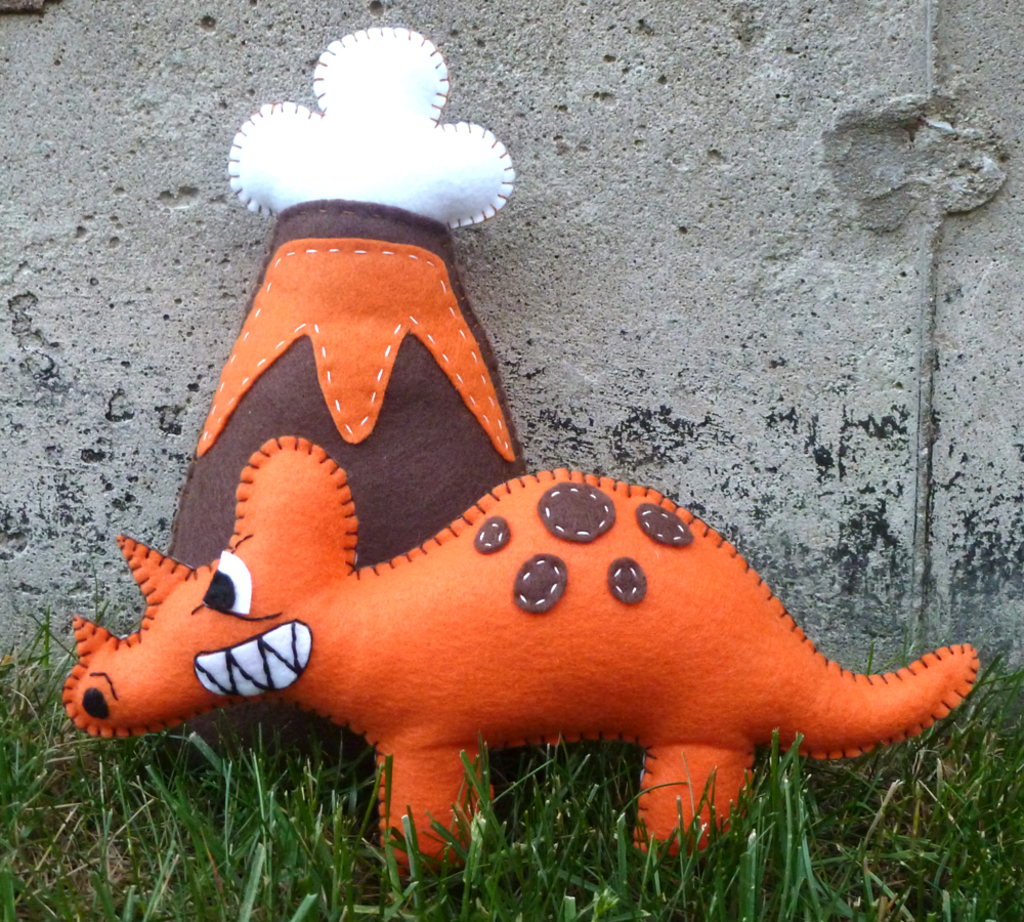Animal: (58, 433, 976, 889)
